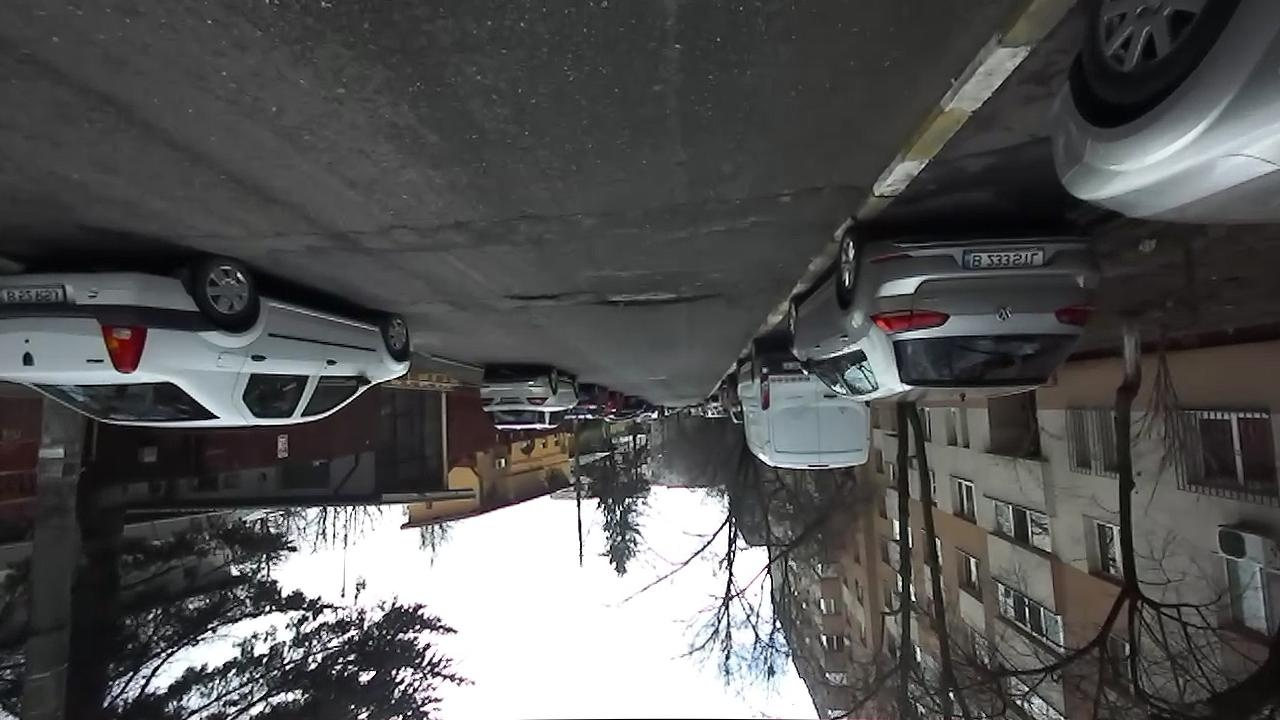pothole: (587, 286, 724, 309), (767, 180, 856, 202), (499, 289, 572, 304)
